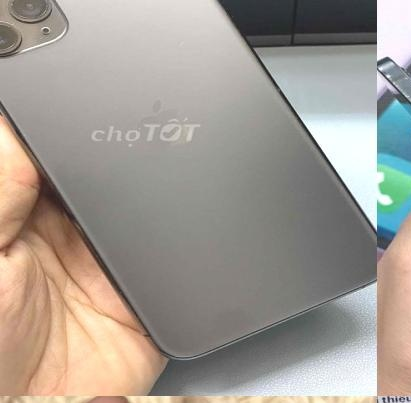scratch: (379, 63, 411, 130), (0, 12, 27, 62), (174, 32, 188, 53)
